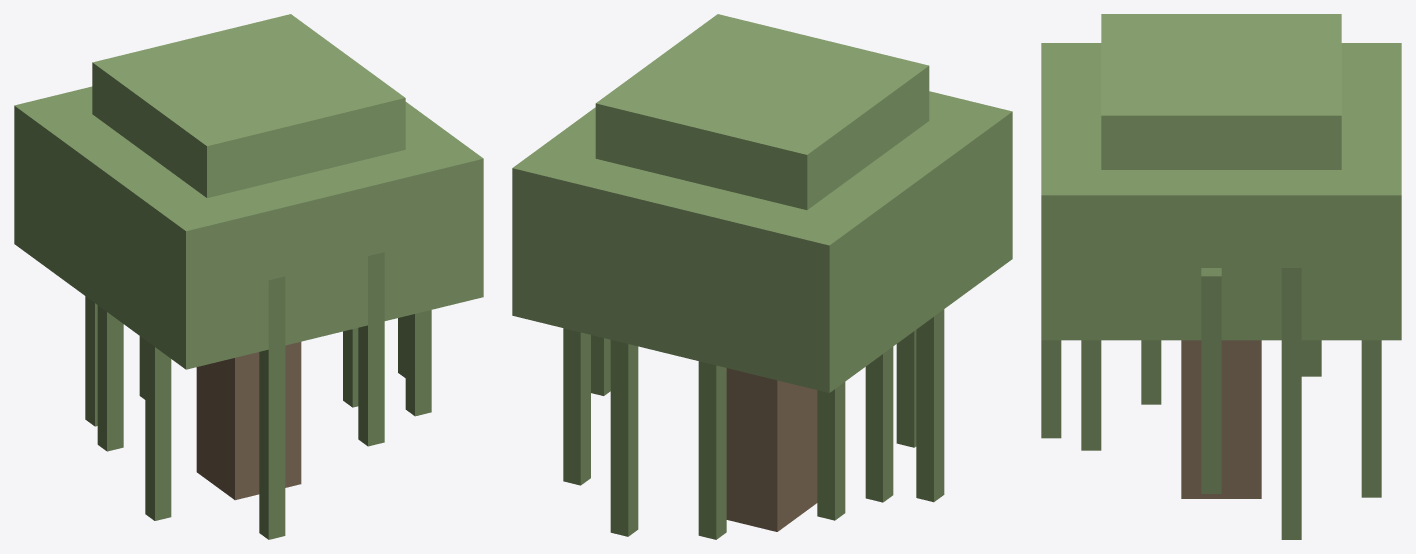
The model's file is sauce_05.glb.
3 renders of one model, left to right at view 1: azimuth 30°, elevation 25°; view 2: azimuth 150°, elevation 25°; view 3: azimuth 270°, elevation 25°, orthographic. The views are drawn at different scales.
Visible parts, largest first — view 1: sauce_05; view 2: sauce_05; view 3: sauce_05.
Part boxes in pixels (x1,y1,x2,y2): sauce_05: (14,14,483,539); sauce_05: (512,14,1012,539); sauce_05: (1041,14,1401,539).
Size of the model in its own units: 1.9 by 2.3 by 1.8.
